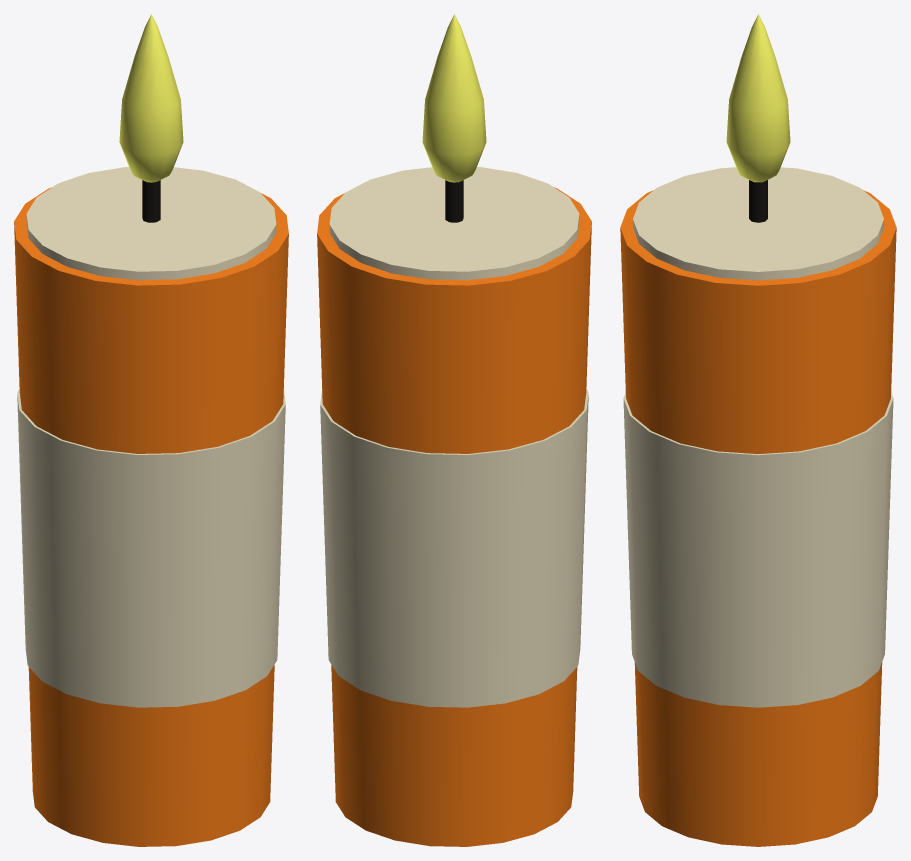
The model's file is veladora.obj.
3 renders of one model, left to right at view 1: azimuth 30°, elevation 25°; view 2: azimuth 150°, elevation 25°; view 3: azimuth 270°, elevation 25°, orthographic.
Visible parts, largest first — view 1: veladora; view 2: veladora; view 3: veladora.
Boxes of the visible parts, x1,y1,x2,y2 form: veladora: (14, 14, 288, 846); veladora: (317, 14, 591, 846); veladora: (620, 14, 896, 846).
Size of the model in its own units: 0.088 by 0.275 by 0.088.
